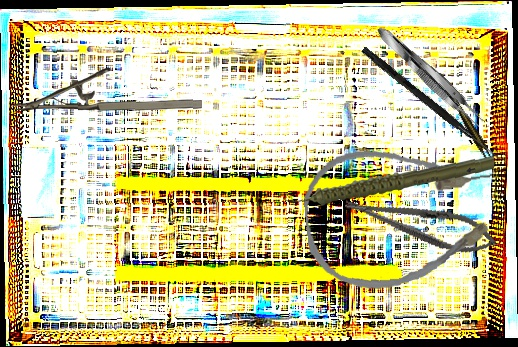Cannula: (299, 137, 503, 296)
Handpiece: (282, 144, 495, 216)
Hook Surgical: (359, 46, 503, 161)
Needle Holder: (340, 183, 501, 263), (11, 66, 203, 114)
Tissue Forceps: (371, 20, 489, 132), (436, 69, 497, 171)
